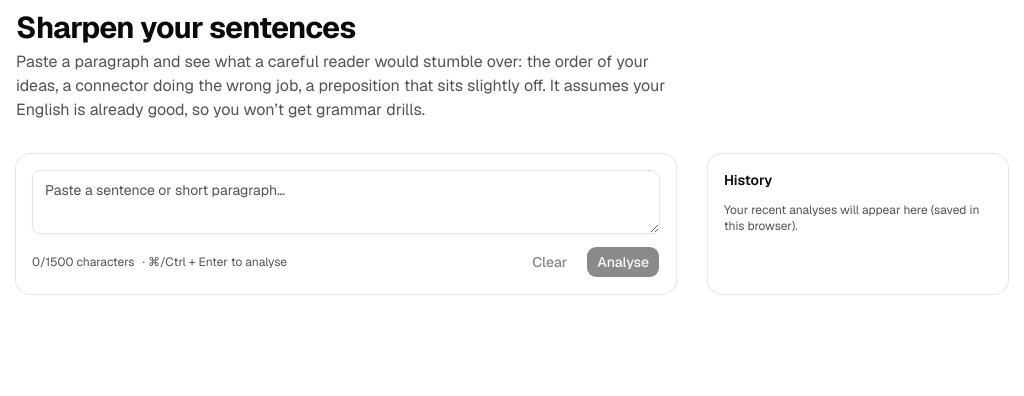
Scenario: error handling › surfaces the error message from the API
Type "The cat sat" into the text box.
click(346, 202); type("The cat sat")  # box [32,170,660,234]
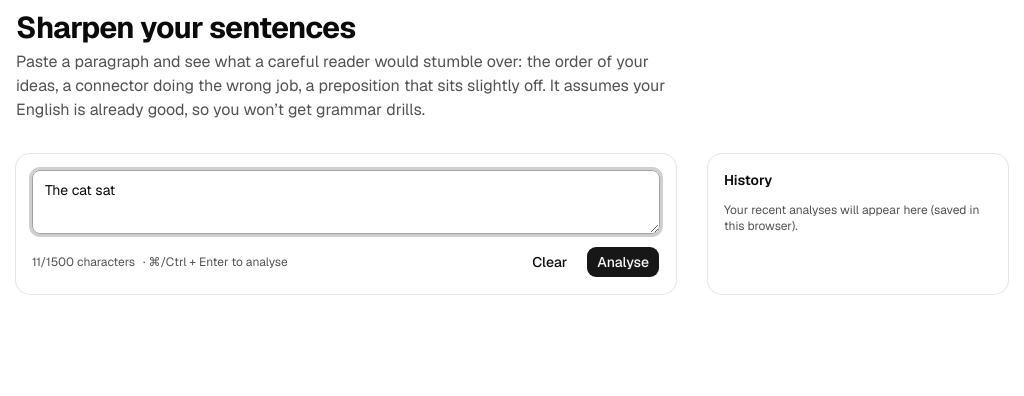
Click the button "Analyse".
click(623, 262)  # box [586,246,660,278]
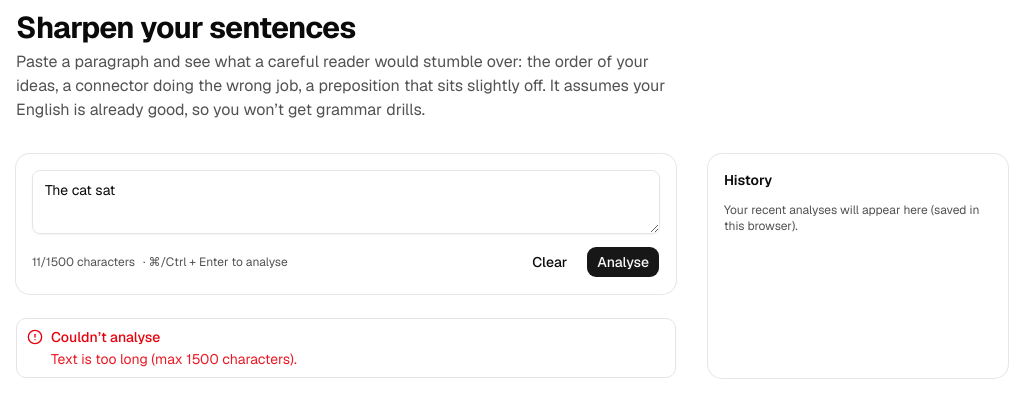
Now the text "Text is too long (max 1500 characters)." is shown, box [51,350,297,368]
